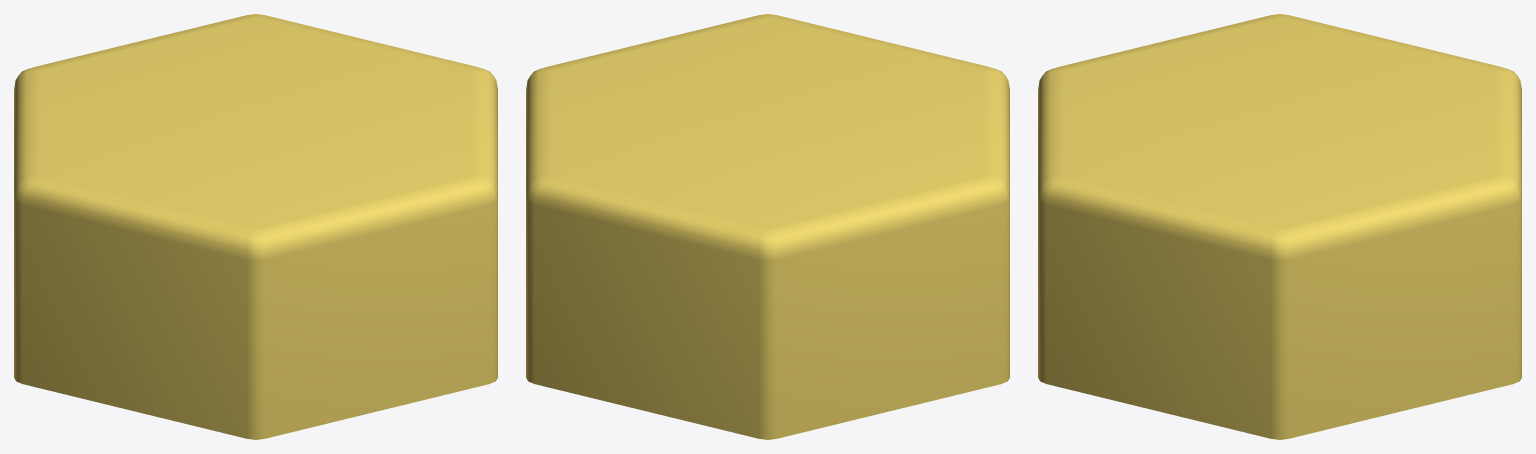
The model's file is Tile_Beach.fbx.
3 views of the same model, side by side, from view 1: azimuth 30°, elevation 25°; view 2: azimuth 150°, elevation 25°; view 3: azimuth 270°, elevation 25° (orthographic).
Visible parts, largest first — view 1: Tile_Beach; view 2: Tile_Beach; view 3: Tile_Beach.
Boxes of the visible parts, x1=… form: Tile_Beach: x1=14, y1=14, x2=497, y2=439; Tile_Beach: x1=526, y1=14, x2=1009, y2=439; Tile_Beach: x1=1038, y1=14, x2=1521, y2=439.
Size of the model in its own units: 9302 by 3698 by 8129.
